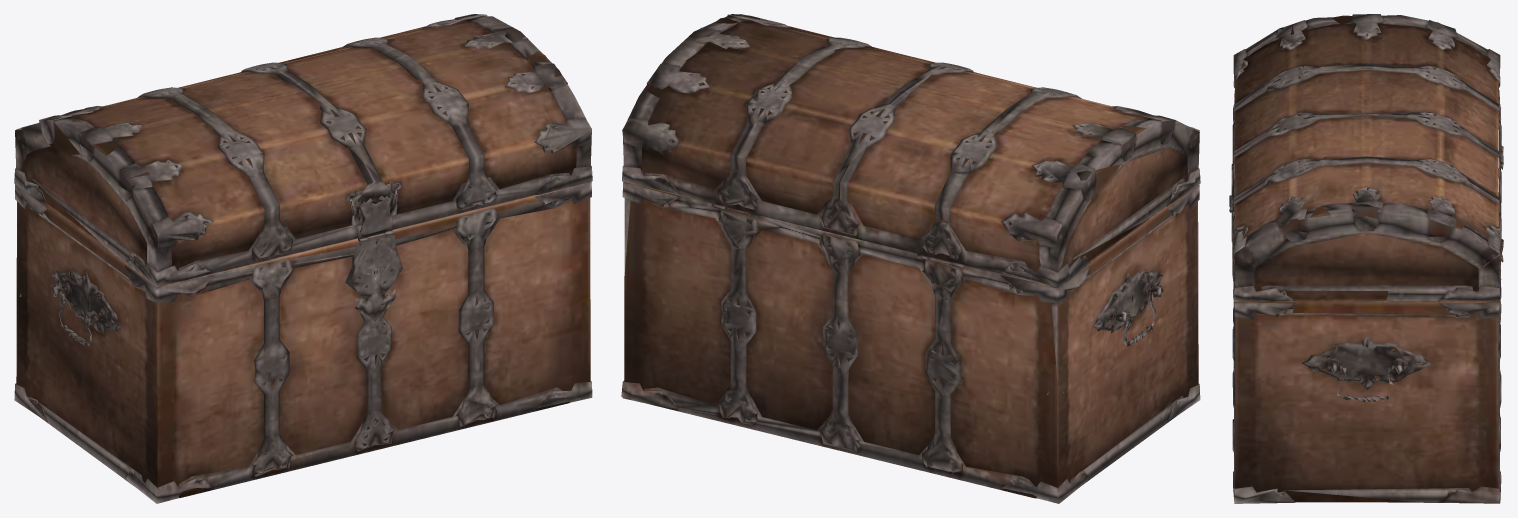
Rendered from treasure_chest.glb.
The picture shows the model from 3 angles, left to right: view 1: azimuth 30°, elevation 25°; view 2: azimuth 150°, elevation 25°; view 3: azimuth 270°, elevation 25°; orthographic projection. The views are drawn at different scales.
Parts seen in each view (by area): view 1: treasure_chest_bottom; view 2: treasure_chest_bottom; view 3: treasure_chest_bottom.
Boxes of the visible parts, x1,y1,x2,y2 form: treasure_chest_bottom: (14,14,592,503); treasure_chest_bottom: (621,14,1200,503); treasure_chest_bottom: (1229,14,1503,503).
Size of the model in its own units: 0.9551 by 0.6159 by 0.5223.
1 material, 1 textured.
